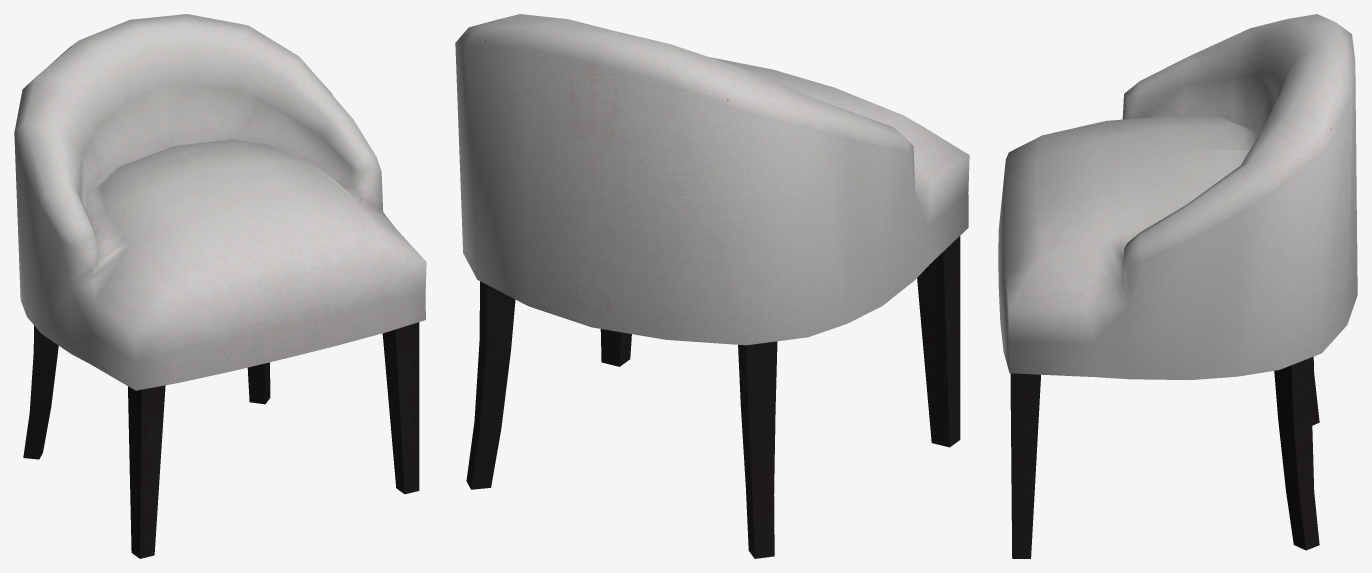
Rendered from furniture_chair5_lod0.glb.
3 views of the same model, side by side, from view 1: azimuth 30°, elevation 25°; view 2: azimuth 150°, elevation 25°; view 3: azimuth 270°, elevation 25° (orthographic). The views are drawn at different scales.
Parts seen in each view (by area): view 1: surf0; view 2: surf0; view 3: surf0.
Part boxes in pixels (x1,y1,x2,y2): surf0: (14,14,426,558); surf0: (455,14,969,558); surf0: (998,14,1357,558).
Bounding box in the file's own units: 27.55 × 32.88 × 24.46.
